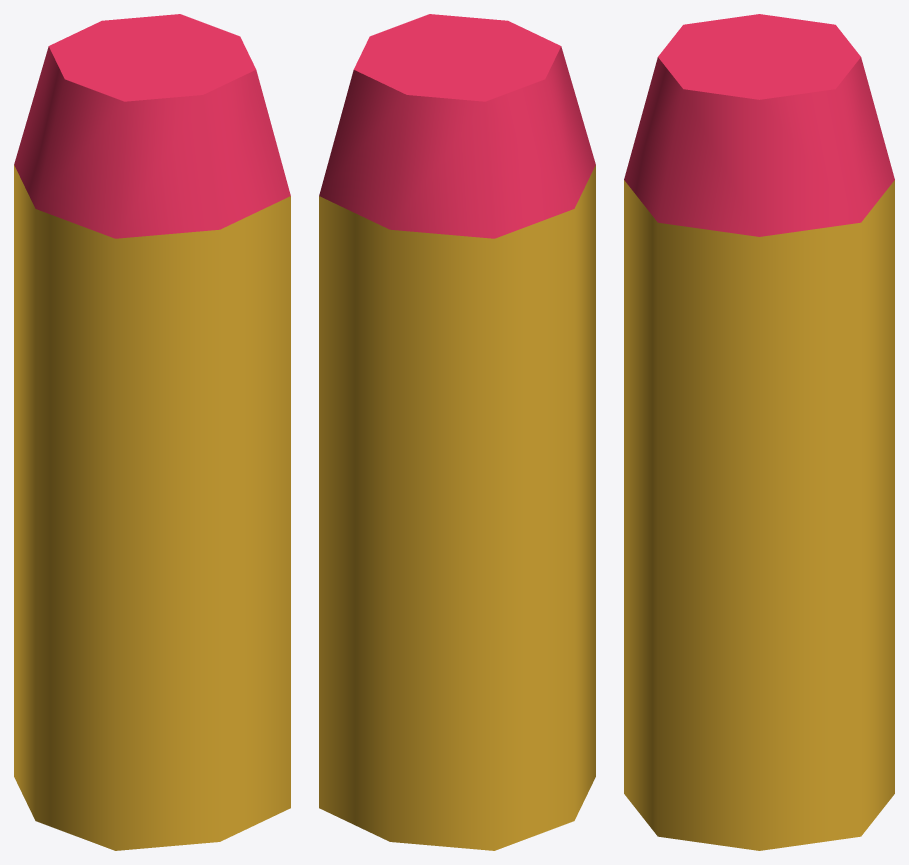
The model's file is foamBulletB-low.glb.
The picture shows the model from 3 angles, left to right: view 1: azimuth 30°, elevation 25°; view 2: azimuth 150°, elevation 25°; view 3: azimuth 270°, elevation 25°; orthographic projection.
Parts seen in each view (by area): view 1: foamBulletB-low; view 2: foamBulletB-low; view 3: foamBulletB-low.
Part boxes in pixels (<box>): foamBulletB-low: <box>14,14,290,850</box>; foamBulletB-low: <box>319,14,595,850</box>; foamBulletB-low: <box>624,14,894,850</box>.
Size of the model in its own units: 0.02 by 0.06 by 0.02.
